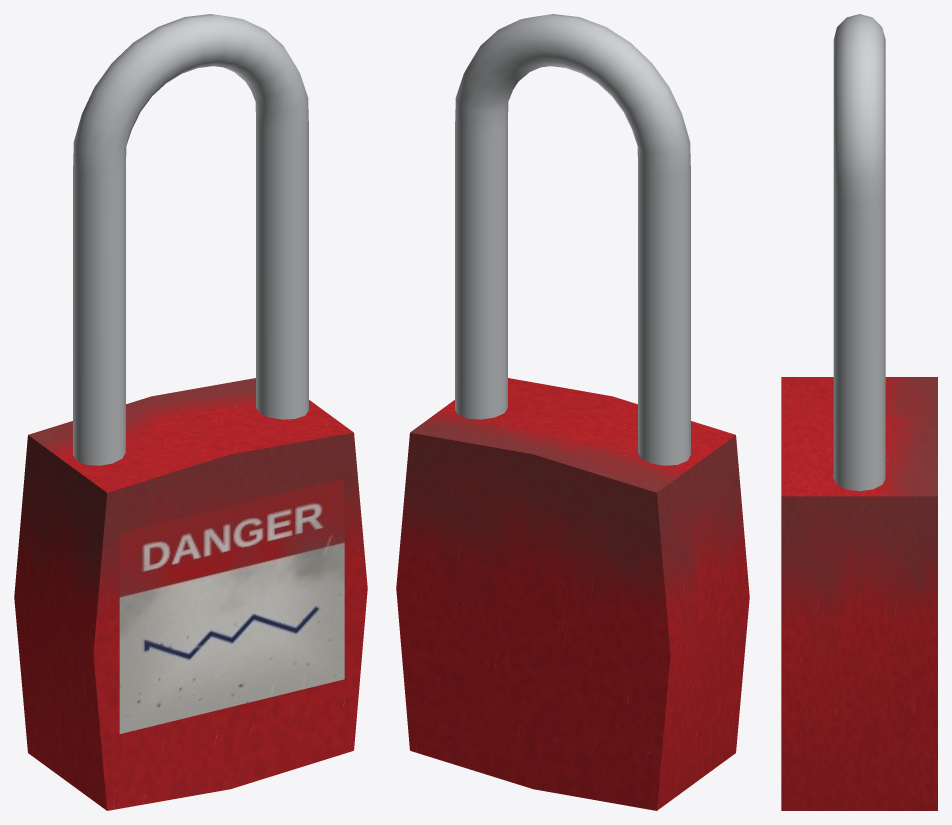
Rendered from SM_Cadenas_Rouge.glb.
3 renders of one model, left to right at view 1: azimuth 30°, elevation 25°; view 2: azimuth 150°, elevation 25°; view 3: azimuth 270°, elevation 25°, orthographic.
Parts seen in each view (by area): view 1: SM_Cadenas_Rouge; view 2: SM_Cadenas_Rouge; view 3: SM_Cadenas_Rouge.
Part boxes in pixels (left/top/right/bottom): SM_Cadenas_Rouge: left=14, top=14, right=367, bottom=810; SM_Cadenas_Rouge: left=396, top=14, right=749, bottom=810; SM_Cadenas_Rouge: left=781, top=14, right=937, bottom=810.
Size of the model in its own units: 0.0381 by 0.0992 by 0.0195.
Materials: 4 (2 with a texture image).
